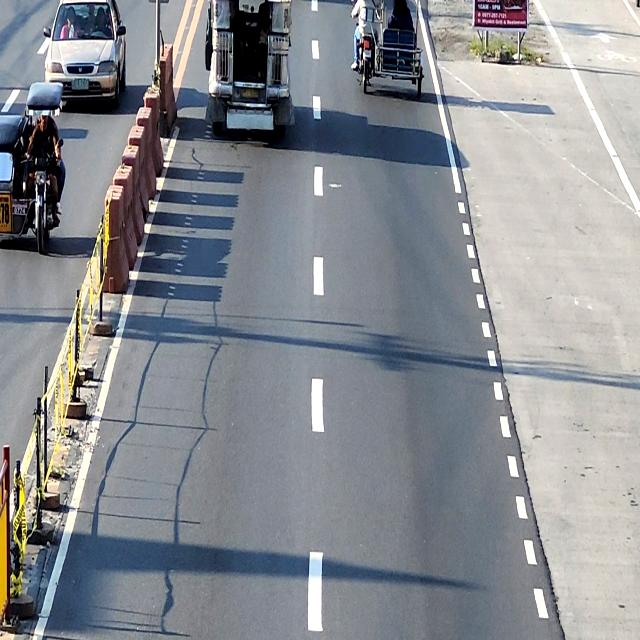Car: (42, 0, 127, 107)
Jeep: (205, 0, 292, 140)
License-Plate: (240, 87, 258, 98), (72, 79, 89, 90), (364, 49, 372, 58)
Tricycle: (0, 81, 63, 253), (354, 0, 424, 100)
